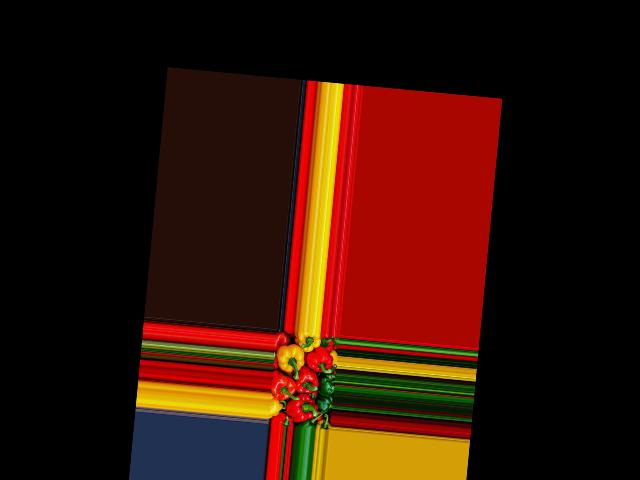bell_pepper: (267, 399, 282, 416)
